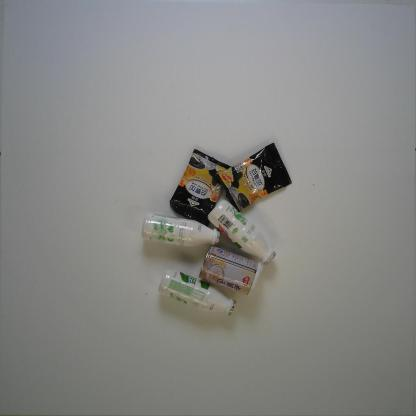Canned Food: (198, 244, 264, 298)
Instant Drink: (215, 141, 292, 212), (169, 148, 233, 227)
Milk: (207, 199, 277, 266), (157, 269, 237, 317), (140, 214, 221, 248)
